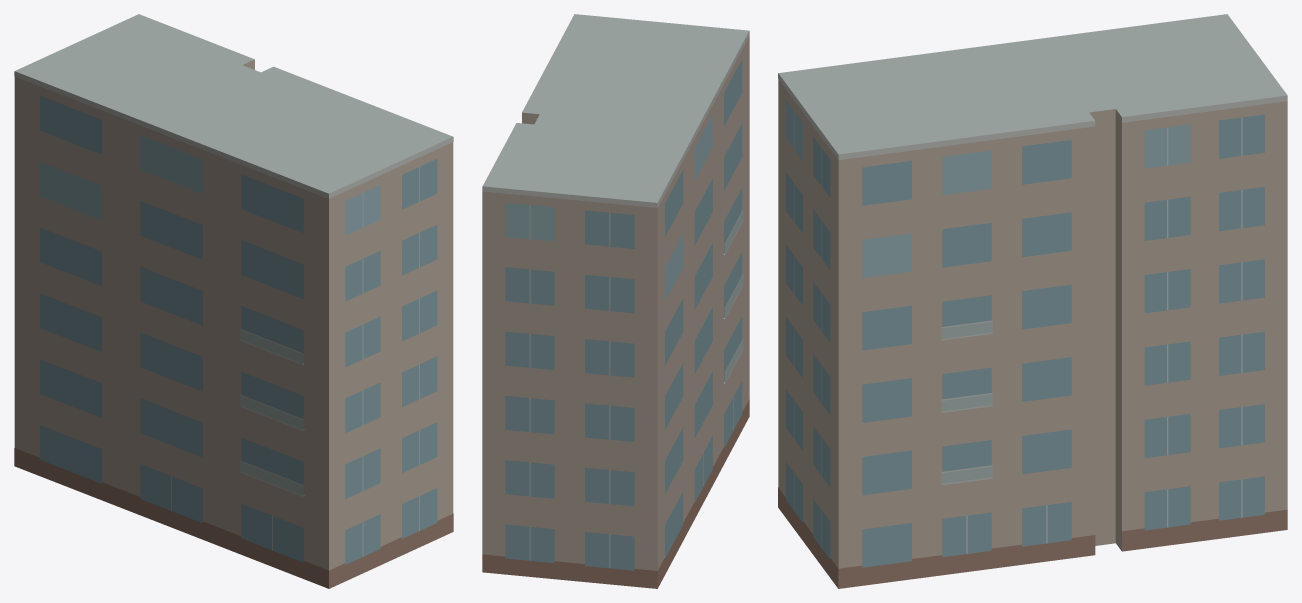
Rendered from survey-upis-32621771.glb.
The picture shows the model from 3 angles, left to right: view 1: azimuth 30°, elevation 25°; view 2: azimuth 150°, elevation 25°; view 3: azimuth 270°, elevation 25°; orthographic projection. The views are drawn at different scales.
Parts seen in each view (by area): view 1: survey-upis-32621771.tmp; view 2: survey-upis-32621771.tmp; view 3: survey-upis-32621771.tmp.
Boxes of the visible parts, bbox=[...] form: survey-upis-32621771.tmp: bbox=[14, 14, 453, 588]; survey-upis-32621771.tmp: bbox=[482, 14, 749, 588]; survey-upis-32621771.tmp: bbox=[778, 14, 1287, 588].
Size of the model in its own units: 12.95 by 18.65 by 19.84.
